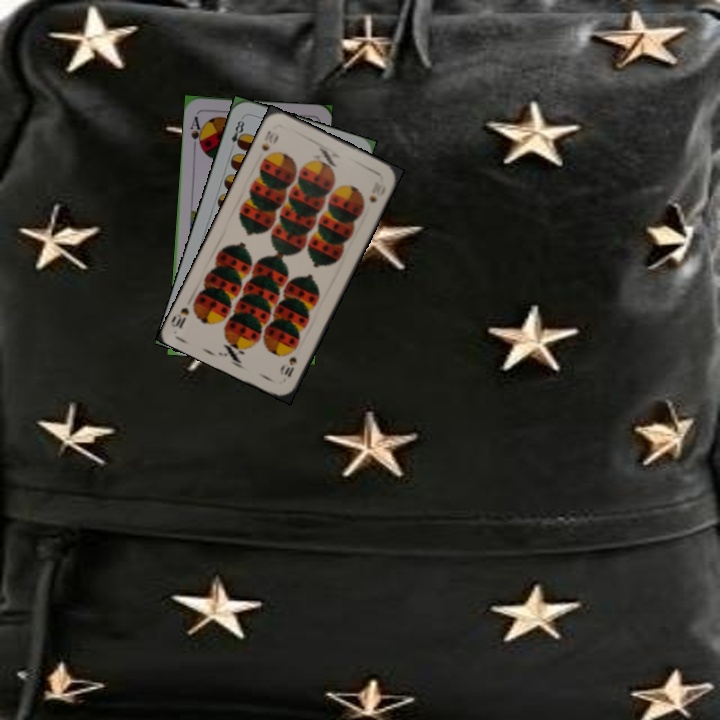E8: (226, 114, 247, 152)
S10: (278, 344, 300, 381), (258, 127, 281, 154)
SA: (186, 112, 205, 151)
